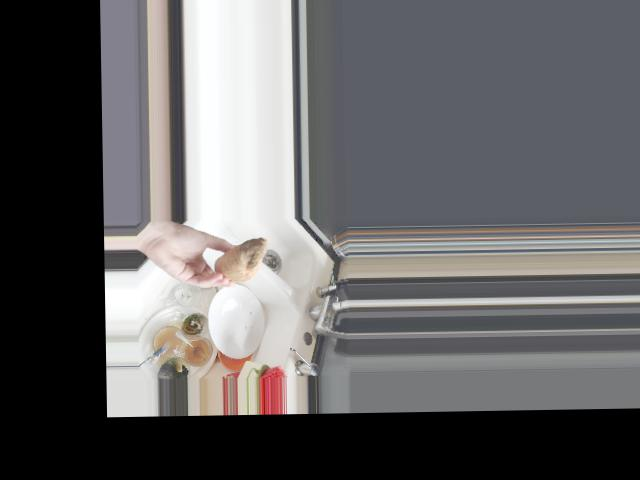sweet_potato: (214, 233, 268, 284)
